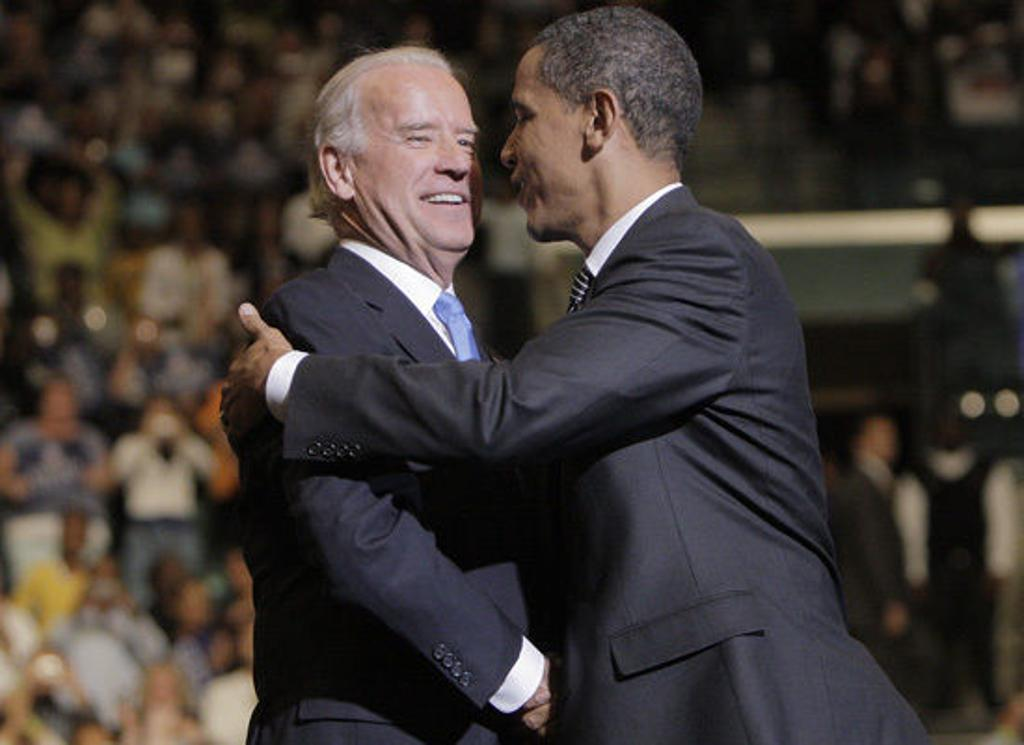face: (356, 66, 484, 252), (504, 54, 580, 240)
